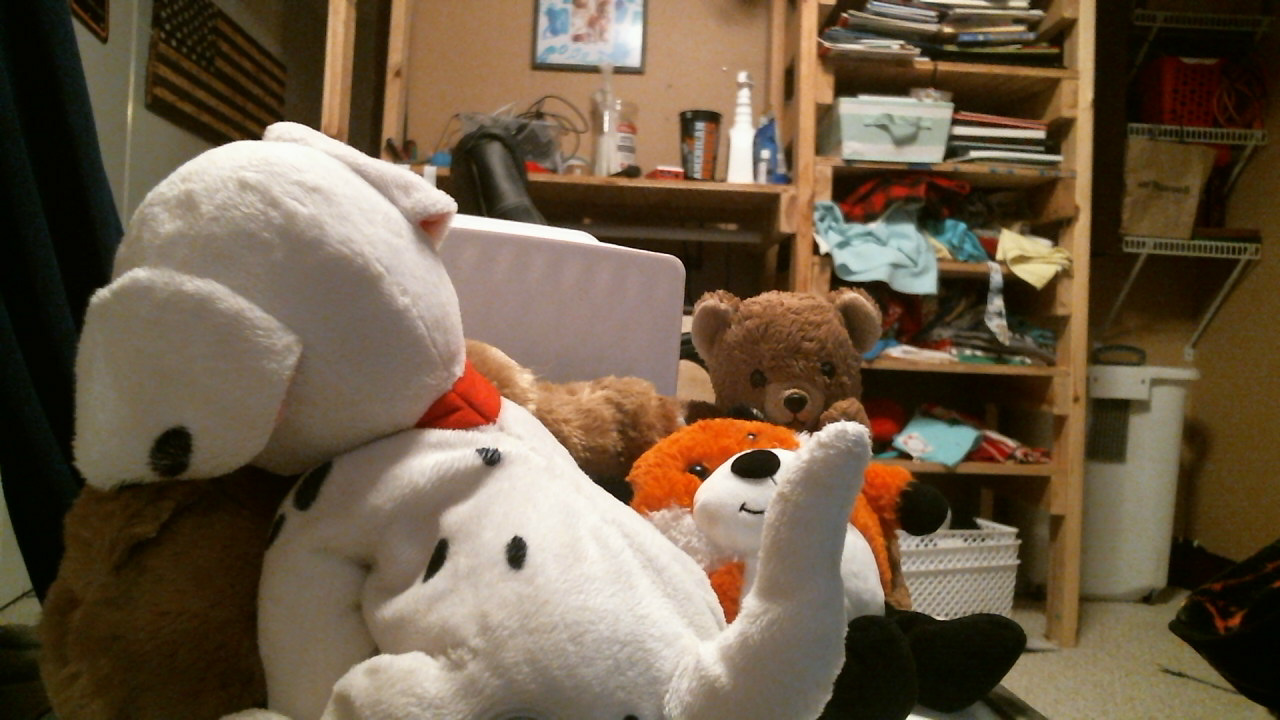Little_Mister_Bear: (743, 361, 853, 432)
